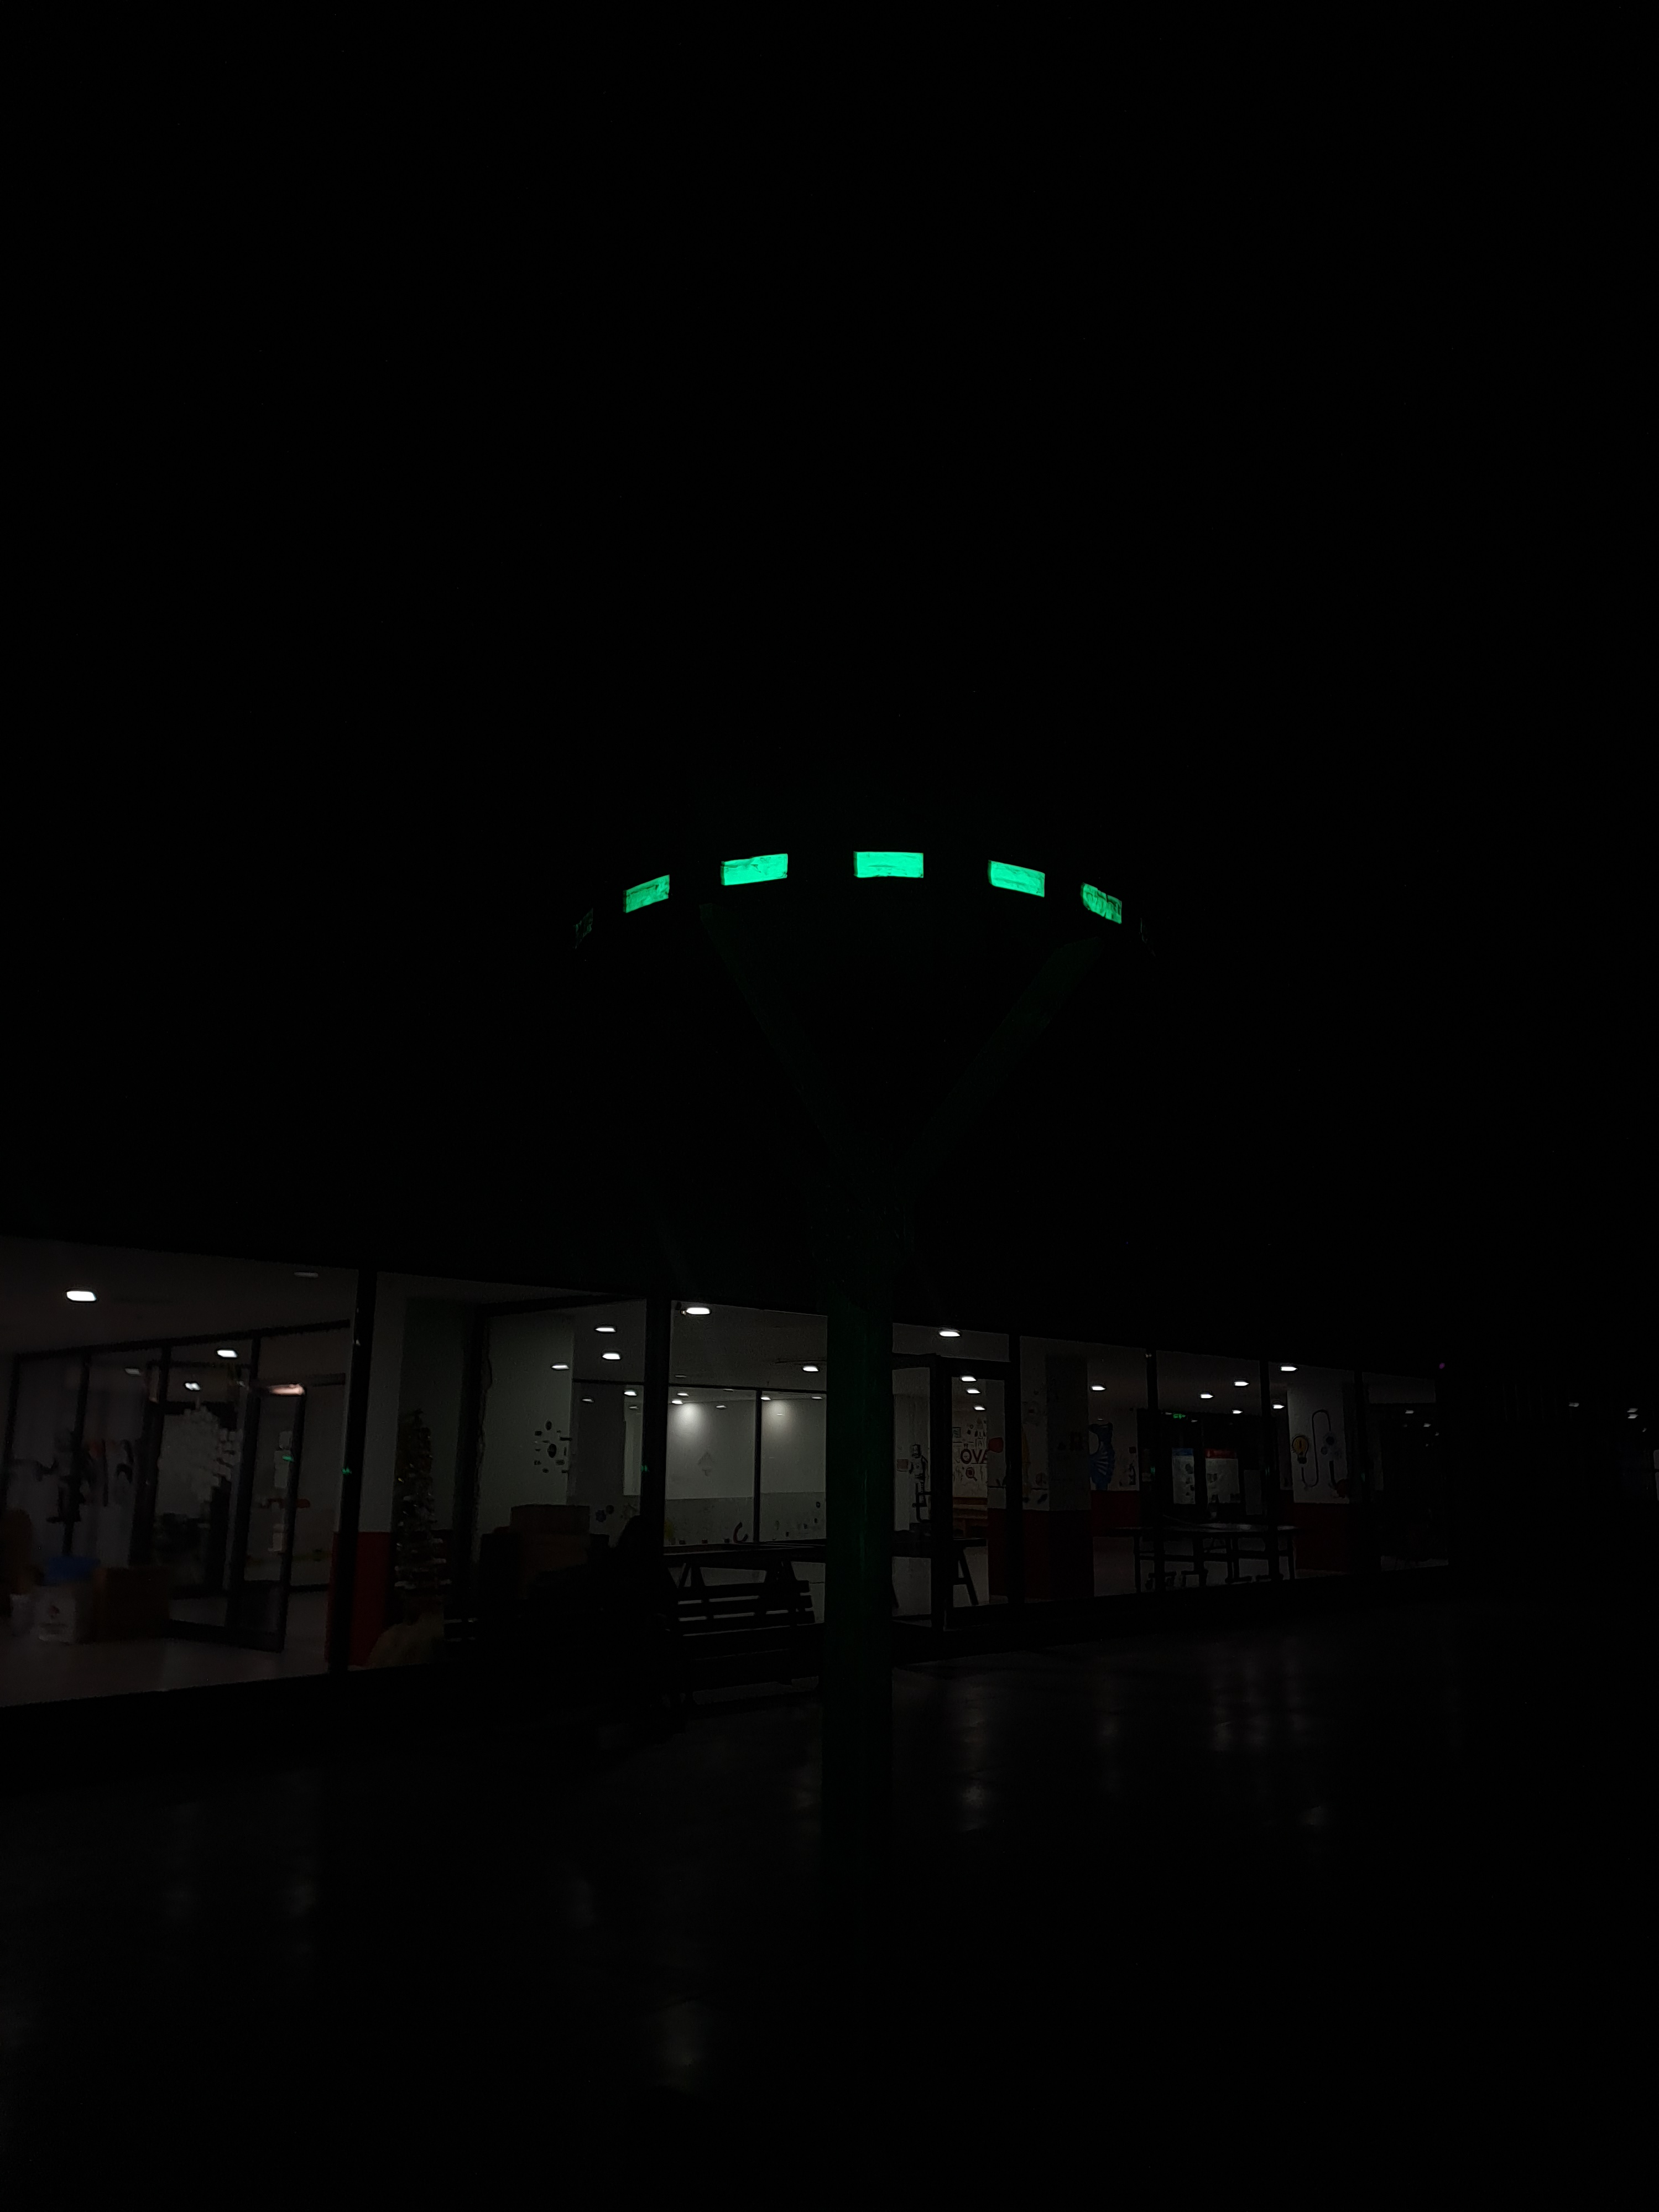hoop: (617, 845, 1127, 935)
